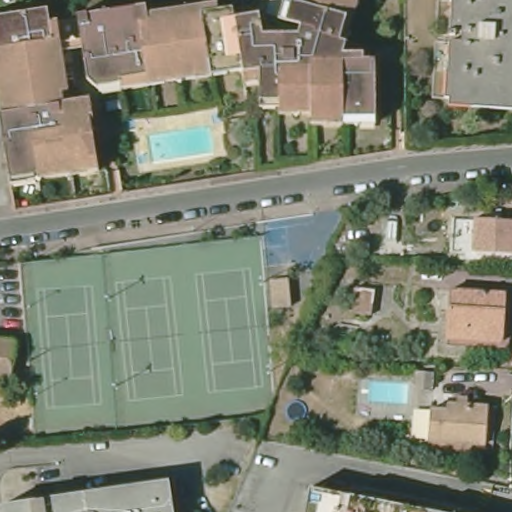pool: (143, 119, 219, 168), (358, 373, 414, 413)
